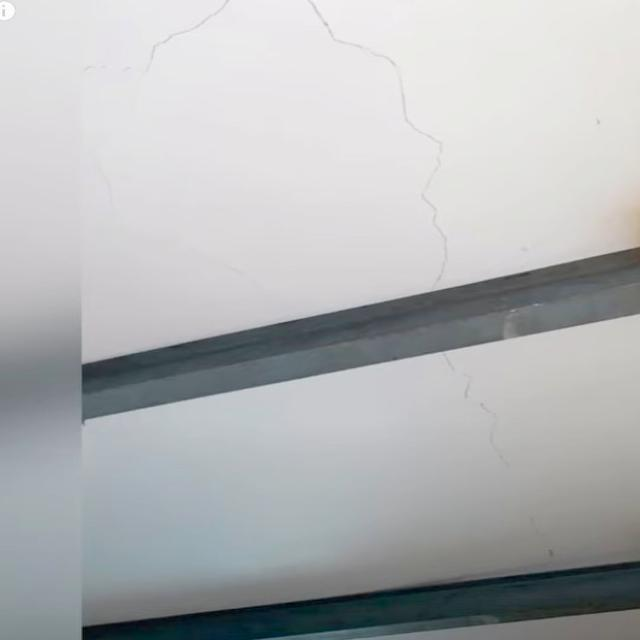Wall_Cracks: (71, 1, 596, 585)
